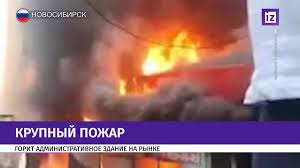fire: (100, 26, 245, 114)
